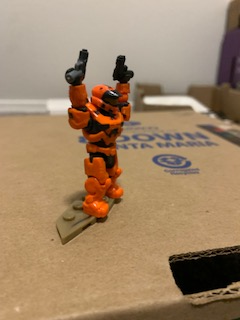pistol: (62, 47, 93, 87), (112, 52, 134, 84)
spartan: (65, 66, 130, 222)
up: (63, 69, 132, 148)
